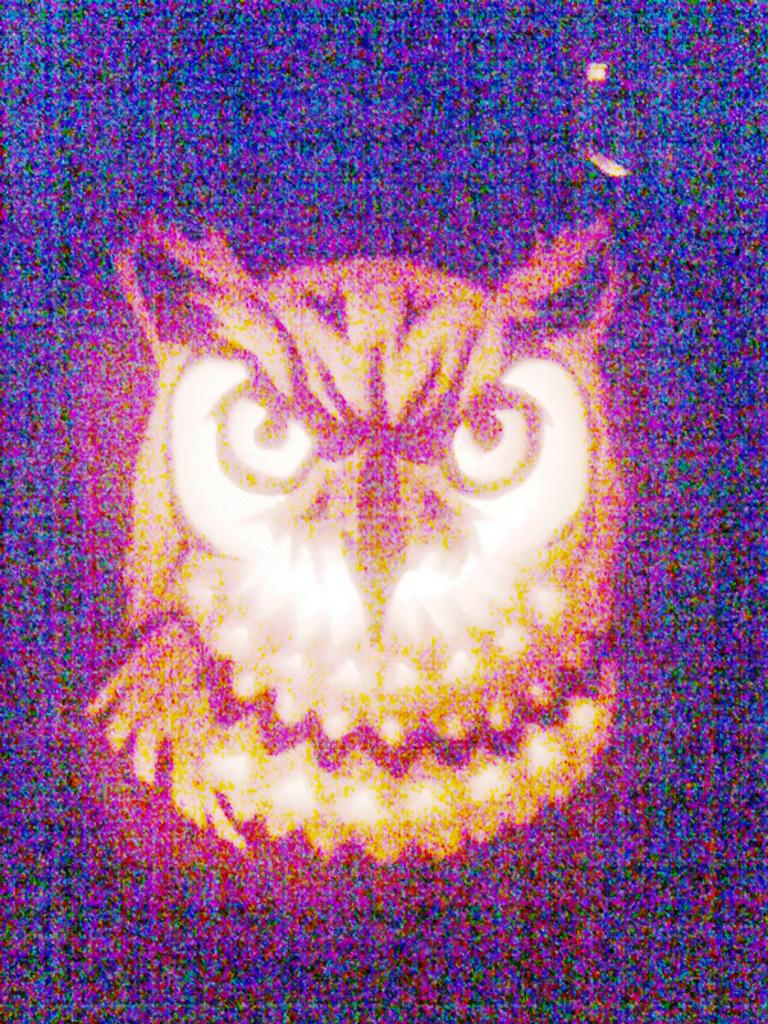Owl: (92, 218, 652, 922)
